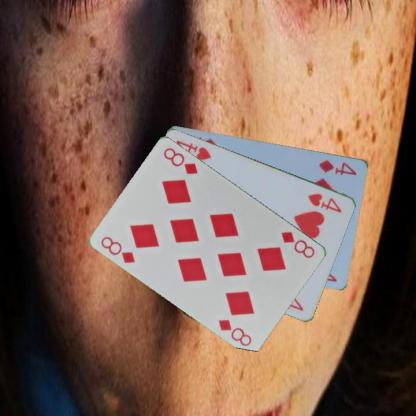4d: (315, 157, 358, 176)
4h: (305, 189, 343, 214)
8d: (98, 233, 137, 266), (278, 229, 316, 259)
